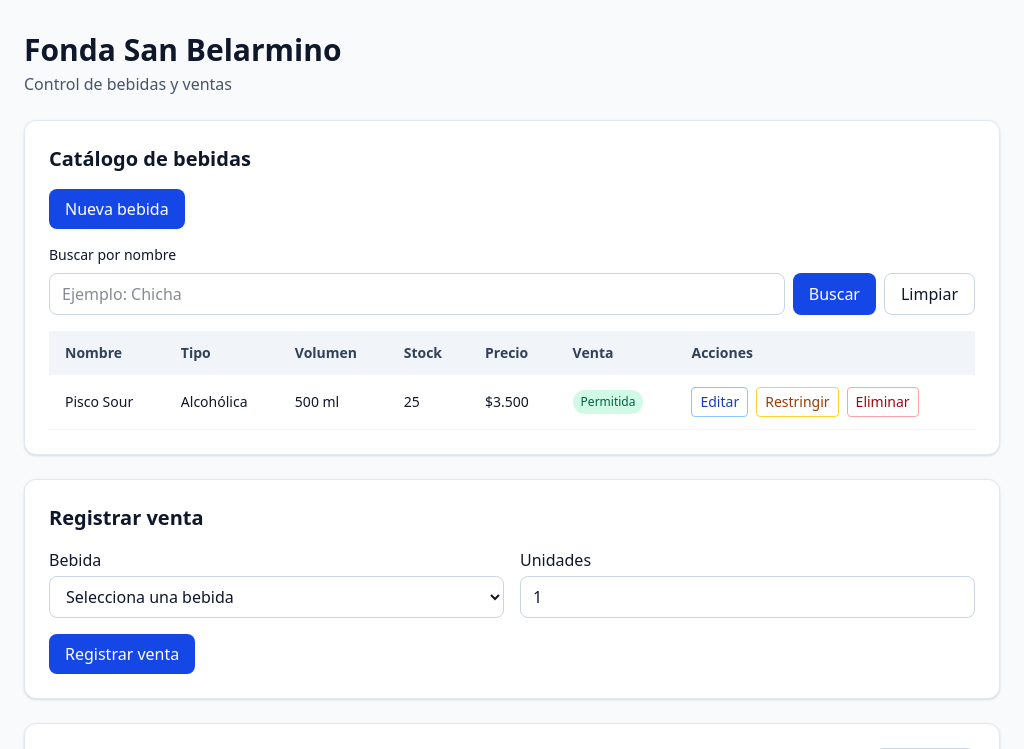
Test: Sincronización de ventas › refresca catálogo e historial después de una venta, rechazada=true
Select "Pisco Sour · Alcohólica · 500 ml · Stock: 25" in the dropdown labelled "Bebida": (276, 597) [49,576,504,618]
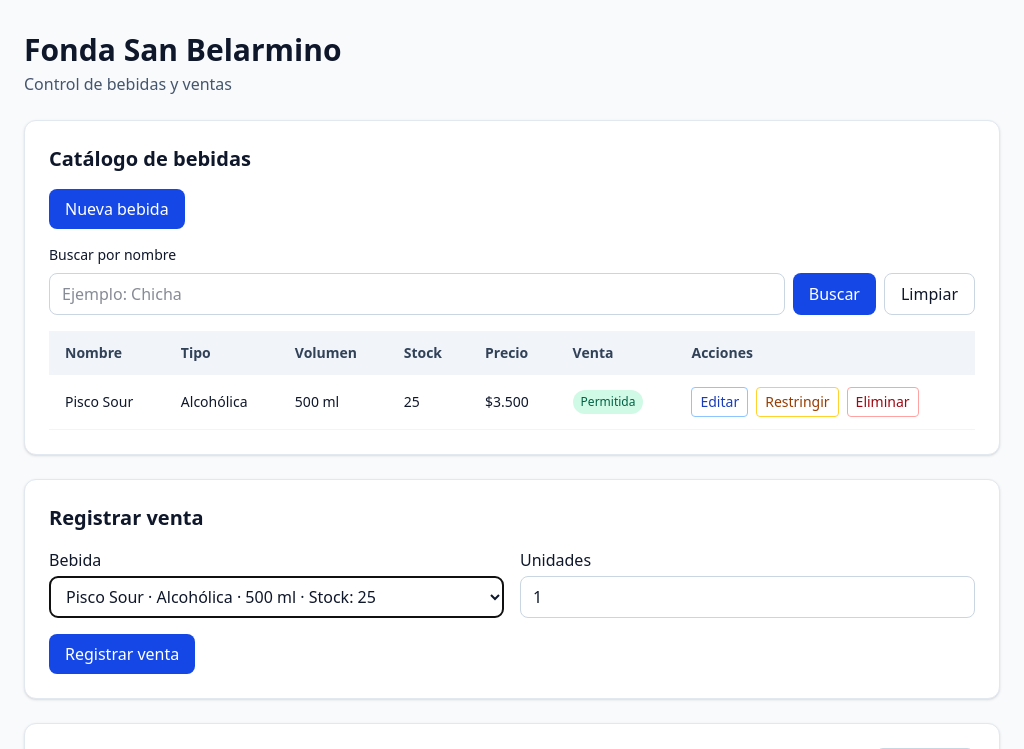
Replace the text in the number field labelled "Unidades" with "2": (748, 597) [520,576,975,618]
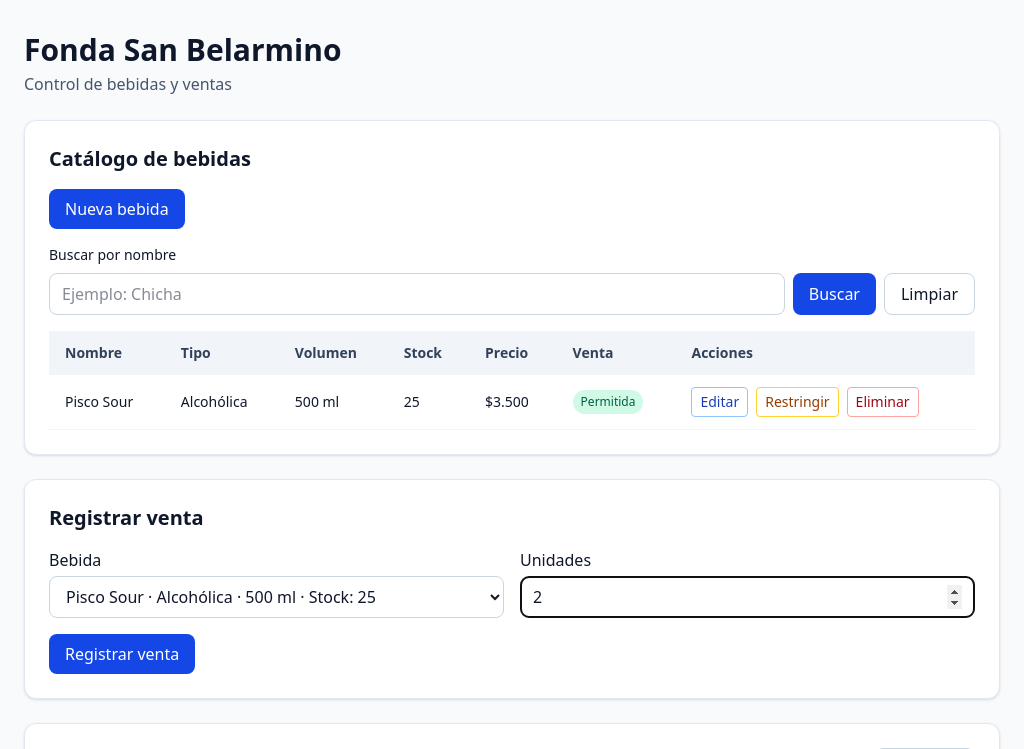
Click the button "Registrar venta": (122, 654) [49,634,195,674]
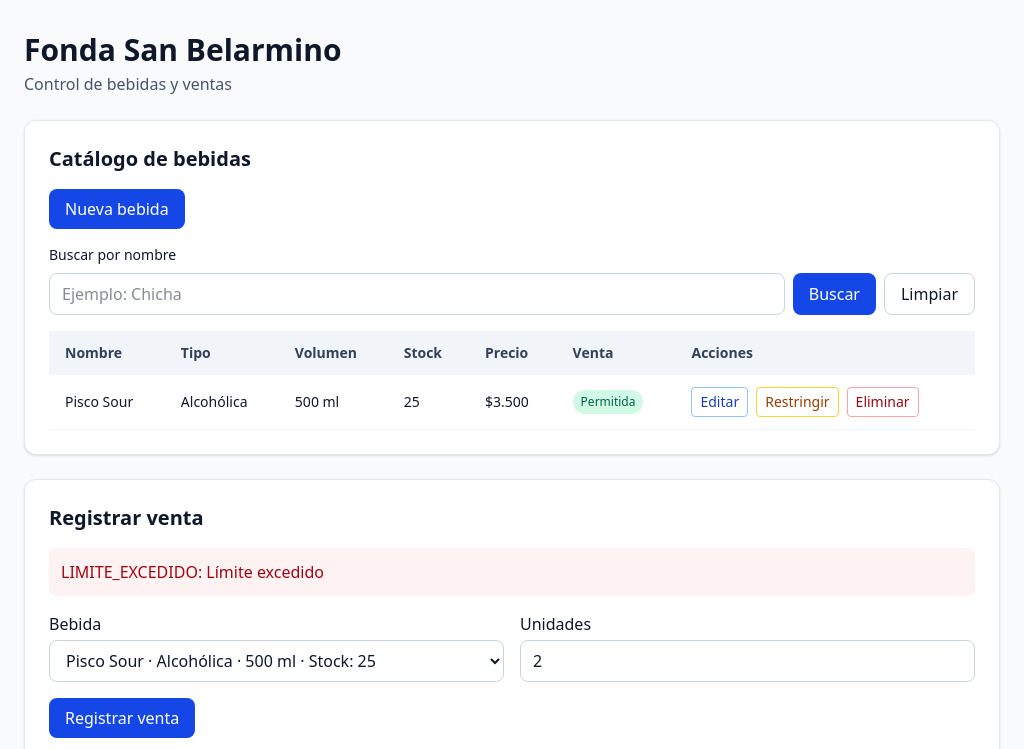
Expected: the text "LIMITE_EXCEDIDO: Límite excedido" is shown, [49,548,975,596]
